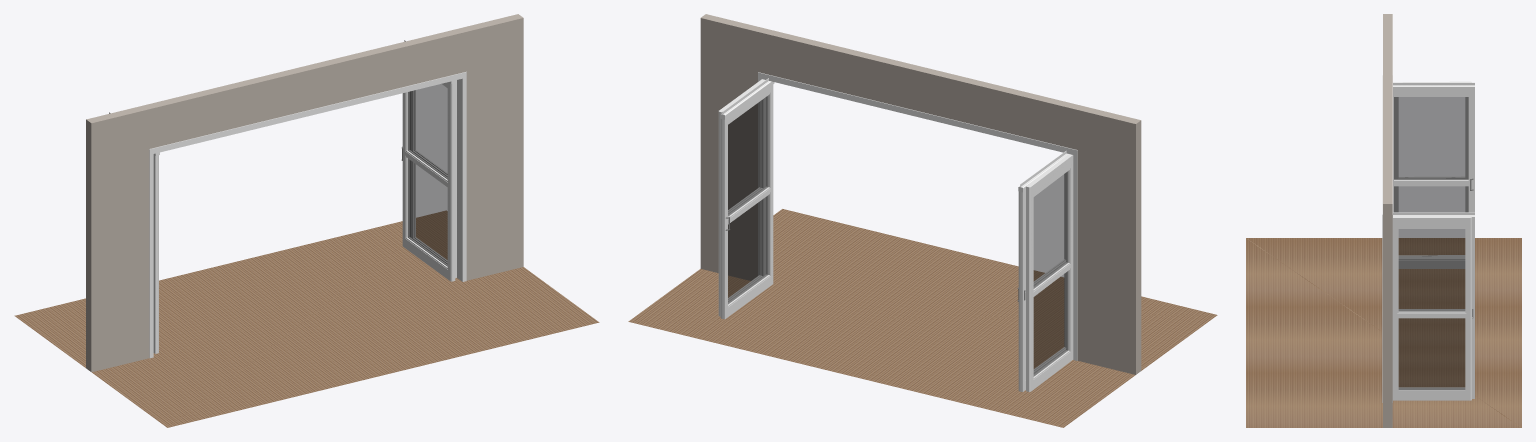
The picture shows the model from 3 angles, left to right: view 1: azimuth 30°, elevation 25°; view 2: azimuth 150°, elevation 25°; view 3: azimuth 270°, elevation 25°; orthographic projection. The views are drawn at different scales.
Parts seen in each view (by area): view 1: Besam_Manual_Sliding_Doors, Group_4, sliding_door, Group_2, Fix_door, sliding_door_1; view 2: Besam_Manual_Sliding_Doors, Group_4, sliding_door, Fix_door_1, Group_2, sliding_door_1, Fix_door; view 3: Besam_Manual_Sliding_Doors, Fix_door, sliding_door_1, Group_4, Fix_door_1, sliding_door, Group_2.
Part boxes in pixels (bbox=[...]): Besam_Manual_Sliding_Doors: bbox=[14, 210, 599, 427]; Group_4: bbox=[86, 14, 523, 372]; sliding_door: bbox=[402, 40, 455, 281]; Group_2: bbox=[149, 71, 466, 358]; Fix_door: bbox=[409, 80, 456, 277]; sliding_door_1: bbox=[109, 112, 159, 353]; Besam_Manual_Sliding_Doors: bbox=[628, 209, 1217, 427]; Group_4: bbox=[700, 14, 1141, 374]; sliding_door: bbox=[720, 78, 774, 319]; Fix_door_1: bbox=[1026, 154, 1073, 391]; Group_2: bbox=[758, 72, 1077, 360]; sliding_door_1: bbox=[1018, 150, 1067, 391]; Fix_door: bbox=[718, 79, 766, 316]; Besam_Manual_Sliding_Doors: bbox=[1246, 238, 1521, 427]; Fix_door: bbox=[1393, 216, 1471, 400]; sliding_door_1: bbox=[1393, 82, 1474, 268]; Group_4: bbox=[1383, 14, 1392, 427]; Fix_door_1: bbox=[1393, 81, 1471, 257]; sliding_door: bbox=[1393, 212, 1474, 398]; Group_2: bbox=[1382, 75, 1392, 402].
Size of the model in its own units: 475 by 261 by 292.
Materials: 8 (1 with a texture image).
